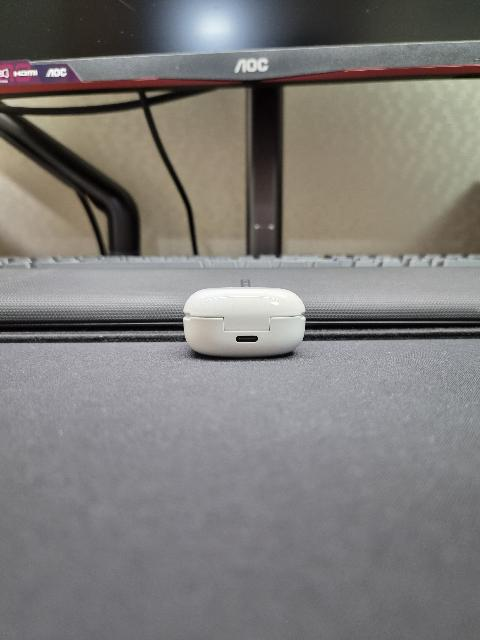earphone_case: (183, 287, 306, 357)
